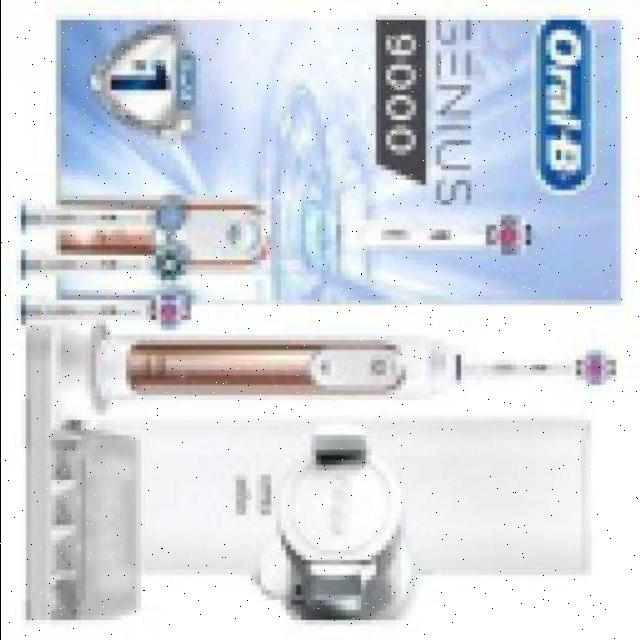toothbrush: (355, 316, 625, 428)
